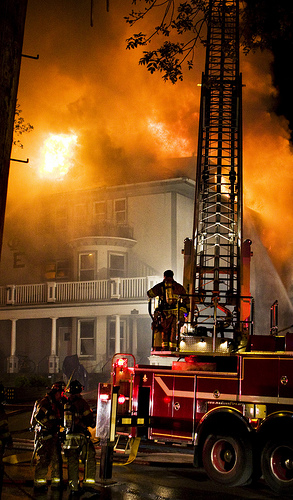fire: (20, 78, 234, 216)
